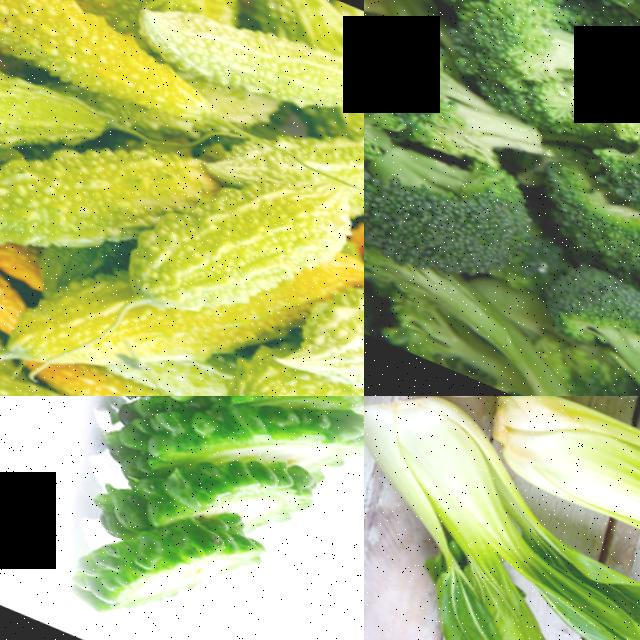bitter gourd: (6, 396, 364, 640), (99, 131, 327, 362), (135, 0, 364, 129), (0, 123, 125, 282), (0, 0, 178, 108), (277, 208, 364, 396), (0, 27, 82, 162)
bok choy: (364, 437, 640, 640), (483, 396, 640, 629), (364, 396, 640, 445)
broccoli: (364, 124, 543, 330), (440, 0, 617, 134), (553, 0, 640, 262), (392, 68, 548, 177)
